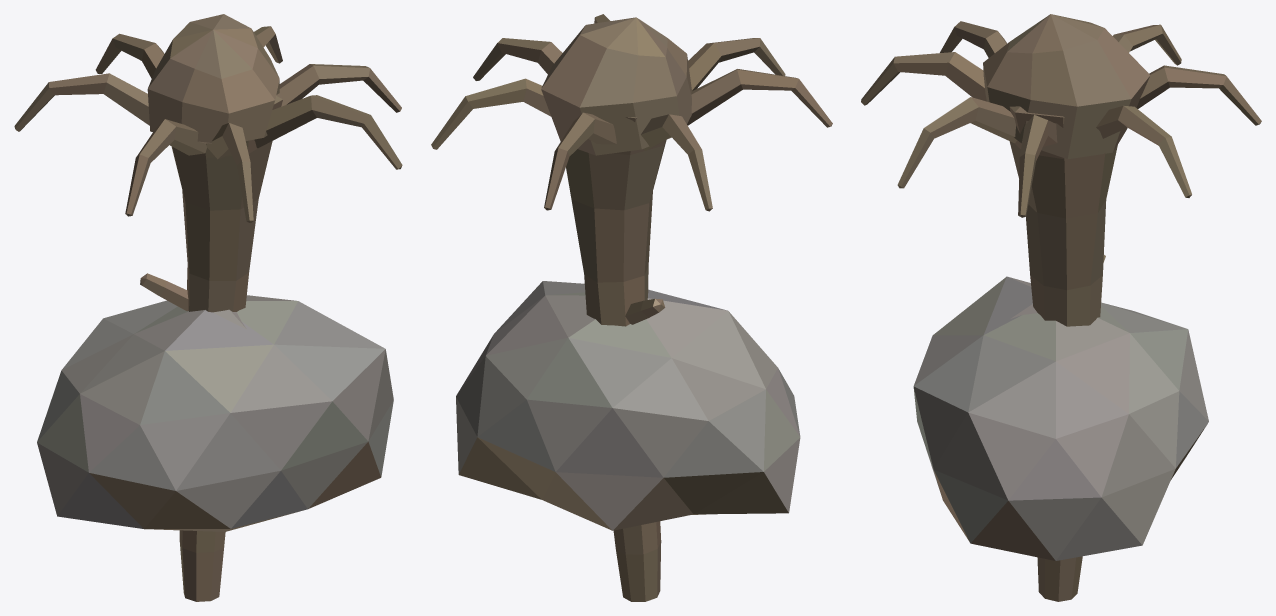
The model's file is troll_rocks.glb.
The picture shows the model from 3 angles, left to right: view 1: azimuth 30°, elevation 25°; view 2: azimuth 150°, elevation 25°; view 3: azimuth 270°, elevation 25°; orthographic projection. The views are drawn at different scales.
Parts seen in each view (by area): view 1: Boulder_1, Tree; view 2: Boulder_1, Tree; view 3: Boulder_1, Tree.
Part boxes in pixels (x1,y1,x2,y2): Boulder_1: (37,295,393,531); Tree: (14,14,402,601); Boulder_1: (456,281,800,530); Tree: (431,14,832,601); Boulder_1: (913,276,1208,560); Tree: (861,14,1261,601).
Size of the model in its own units: 1.4 by 2.33 by 1.44.
